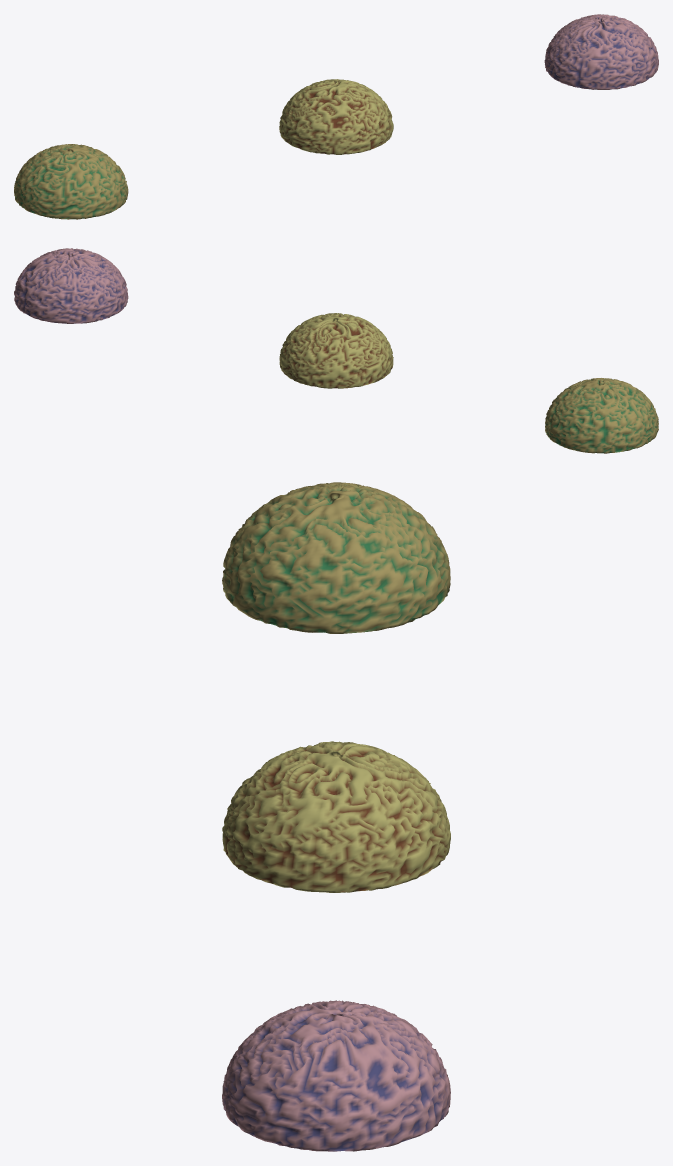
3 renders of one model, top to bottom at view 1: azimuth 30°, elevation 25°; view 2: azimuth 150°, elevation 25°; view 3: azimuth 270°, elevation 25°, orthographic. The views are drawn at different scales.
Parts seen in each view (by area): view 1: platygyra-1, platygyra-0, platygyra-2; view 2: platygyra-1, platygyra-2, platygyra-0; view 3: platygyra-0, platygyra-2, platygyra-1.
Boxes of the visible parts, x1,y1,x2,y2 form: platygyra-1: (279, 79, 393, 154); platygyra-0: (14, 144, 128, 219); platygyra-2: (544, 14, 658, 89); platygyra-1: (279, 313, 393, 388); platygyra-2: (14, 248, 128, 323); platygyra-0: (545, 378, 658, 453); platygyra-0: (222, 482, 450, 633); platygyra-2: (222, 1000, 450, 1151); platygyra-1: (222, 741, 450, 892).
Bounding box in the file's own units: 1.42 × 0.098 × 0.2243.
